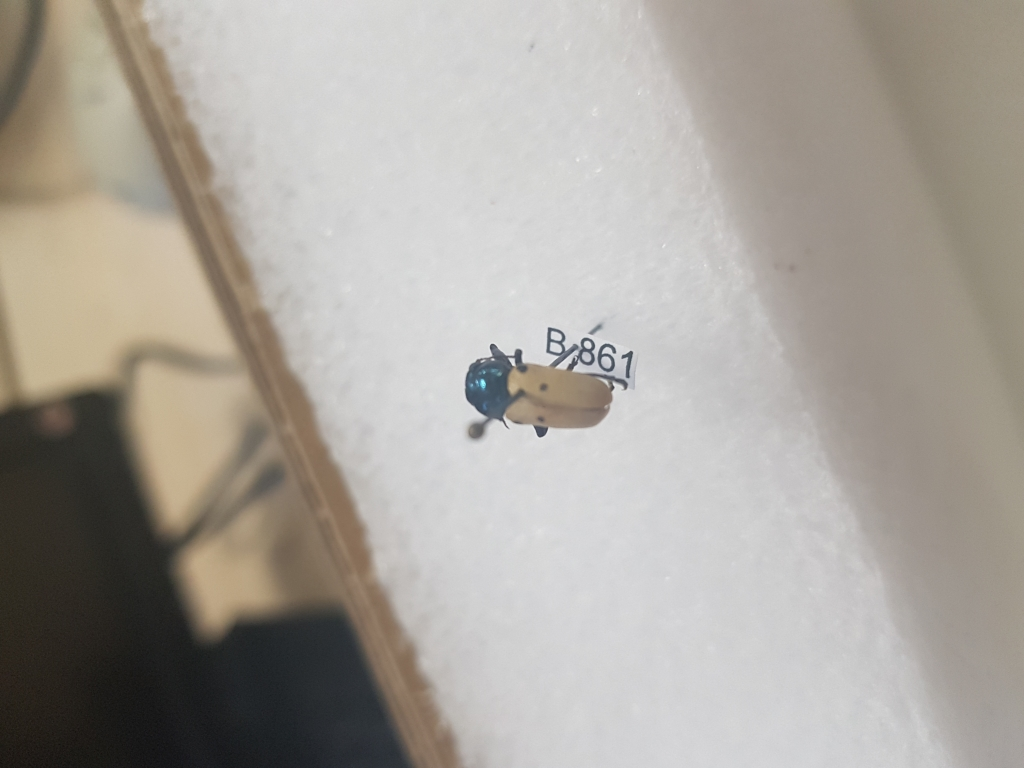Labidostomis_maculipennis: (456, 341, 619, 439)
